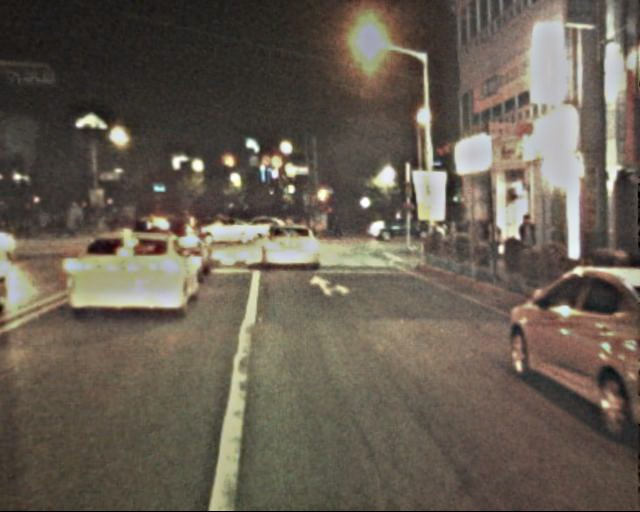person: (39, 205, 127, 232), (516, 214, 543, 280), (483, 214, 506, 269)
